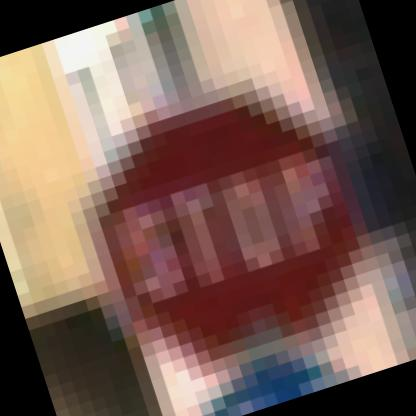stop: (40, 43, 415, 410)
